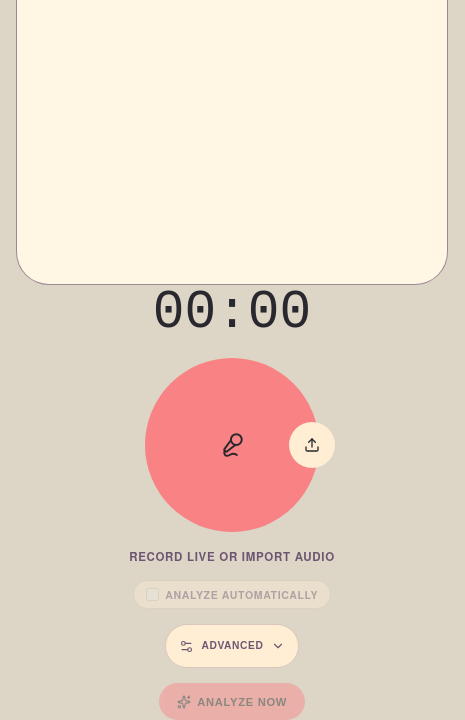
Recorder › disables controls while analysis is busy
(page scrolled)
Click the button with aria-label "show advanced options": point(232, 646) top-left (165, 624), bottom-right (299, 668)
(page scrolled)
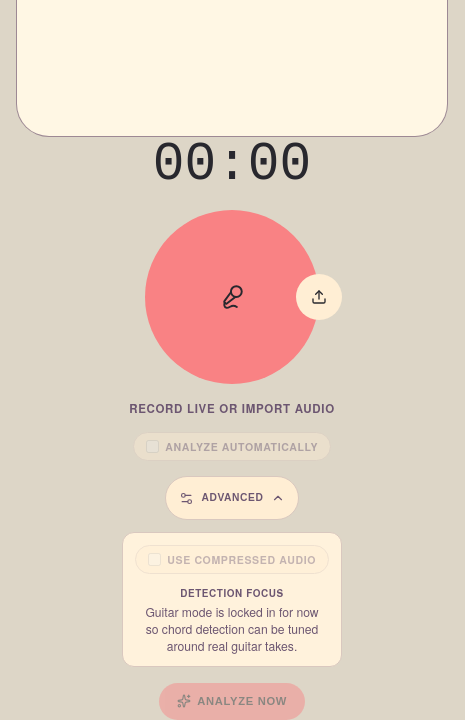
Expected: the button "Analyze now" is disabled, top-left (159, 683), bottom-right (305, 719)
Expected: the text "Guitar mode is locked in for now" is shown, top-left (145, 603), bottom-right (319, 654)
